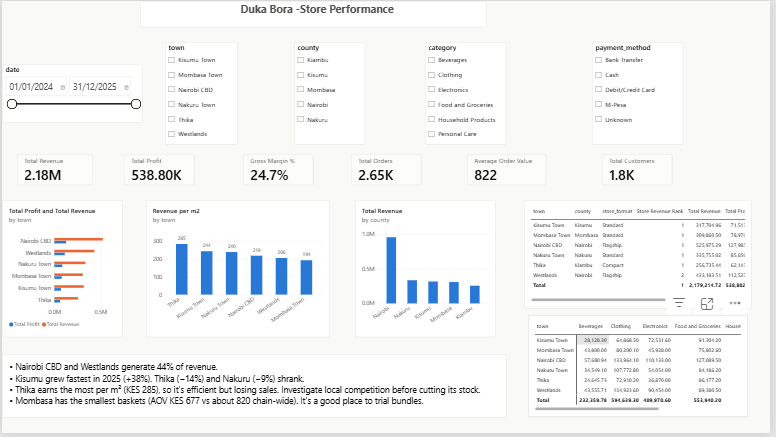

The dashboard page shown, as its layout file describes it:
{"tool":"powerbi","page":{"name":"Store Performance","canvas":[1920,1080],"ordinal":3},"visuals":[{"type":"textbox","box":[346,0,866,66],"z":0},{"type":"slicer","fields":{"Values":["dim_date.date"]},"box":[0,158.3,351.7,146.7],"z":1000},{"type":"slicer","fields":{"Values":["dim_store.town"]},"box":[408.3,103.3,181.7,256.7],"z":2000},{"type":"slicer","fields":{"Values":["dim_store.county"]},"box":[730,102.5,178.3,256.7],"z":3000},{"type":"slicer","fields":{"Values":["dim_product.category"]},"box":[1057.5,102.5,203.3,256.7],"z":4000},{"type":"slicer","fields":{"Values":["fact_sales.payment_method"]},"box":[1475,102.5,228.3,256.7],"z":5000},{"type":"cardVisual","fields":{"Data":["_Measures.Total Revenue"]},"box":[37.5,383.5,190,78.3],"z":5001},{"type":"cardVisual","fields":{"Data":["_Measures.Total Customers"]},"box":[1501,383.5,176.7,78.3],"z":5002},{"type":"cardVisual","fields":{"Data":["_Measures.Total Orders"]},"box":[872.8,383.5,176.7,78.3],"z":5003},{"type":"cardVisual","fields":{"Data":["_Measures.Gross Margin %"]},"box":[601.7,383.5,176.7,78.3],"z":5004},{"type":"cardVisual","fields":{"Data":["_Measures.Total Profit"]},"box":[304.2,383.5,176.7,78.3],"z":5005},{"type":"cardVisual","fields":{"Data":["_Measures.Average Order Value"]},"box":[1161.6,383.5,198,78],"z":5006},{"type":"clusteredBarChart","fields":{"Category":["dim_store.town"],"Y":["_Measures.Total Profit","_Measures.Total Revenue"]},"box":[0,498.1,302,342.5],"z":5007},{"type":"columnChart","fields":{"Category":["dim_store.town"],"Y":["_Measures.Revenue per m2"]},"box":[359.3,498.1,459.7,342.5],"z":5008},{"type":"columnChart","fields":{"Category":["dim_store.county"],"Y":["_Measures.Total Revenue"]},"box":[881.6,498.1,351.5,342.5],"z":5009},{"type":"tableEx","fields":{"Values":["dim_store.town","dim_store.county","dim_store.store_format","_Measures.Store Revenue Rank","_Measures.Total Revenue","_Measures.Total Profit","_Measures.Average Order Value","_Measures.Revenue Growth 2025 %"]},"box":[1304.8,498.1,568.7,271.1],"z":5010},{"type":"textbox","box":[0,881.6,1260.7,158.7],"z":5011},{"type":"pivotTable","fields":{"Columns":["dim_product.category"],"Rows":["dim_store.town"],"Values":["_Measures.Total Revenue"]},"box":[1315,785,548.8,255.7],"z":5012}]}

Visuals, with their boxes in screenshot pixels (x1, y1, x2, y2), scaled from the page's 1920x1080 canvas onto the 776x437 screenshot:
textbox: pyautogui.locateOnScreen(140, 0, 490, 27)
slicer - dim_date.date: pyautogui.locateOnScreen(0, 64, 142, 123)
slicer - dim_store.town: pyautogui.locateOnScreen(165, 42, 238, 146)
slicer - dim_store.county: pyautogui.locateOnScreen(295, 41, 367, 145)
slicer - dim_product.category: pyautogui.locateOnScreen(427, 41, 510, 145)
slicer - fact_sales.payment_method: pyautogui.locateOnScreen(596, 41, 688, 145)
cardVisual - _Measures.Total Revenue: pyautogui.locateOnScreen(15, 155, 92, 187)
cardVisual - _Measures.Total Customers: pyautogui.locateOnScreen(607, 155, 678, 187)
cardVisual - _Measures.Total Orders: pyautogui.locateOnScreen(353, 155, 424, 187)
cardVisual - _Measures.Gross Margin %: pyautogui.locateOnScreen(243, 155, 315, 187)
cardVisual - _Measures.Total Profit: pyautogui.locateOnScreen(123, 155, 194, 187)
cardVisual - _Measures.Average Order Value: pyautogui.locateOnScreen(469, 155, 550, 187)
clusteredBarChart - dim_store.town x _Measures.Total Profit: pyautogui.locateOnScreen(0, 202, 122, 340)
columnChart - dim_store.town x _Measures.Revenue per m2: pyautogui.locateOnScreen(145, 202, 331, 340)
columnChart - dim_store.county x _Measures.Total Revenue: pyautogui.locateOnScreen(356, 202, 498, 340)
tableEx - dim_store.town x dim_store.county: pyautogui.locateOnScreen(527, 202, 757, 311)
textbox: pyautogui.locateOnScreen(0, 357, 510, 421)
pivotTable - dim_product.category x dim_store.town: pyautogui.locateOnScreen(531, 318, 753, 421)
